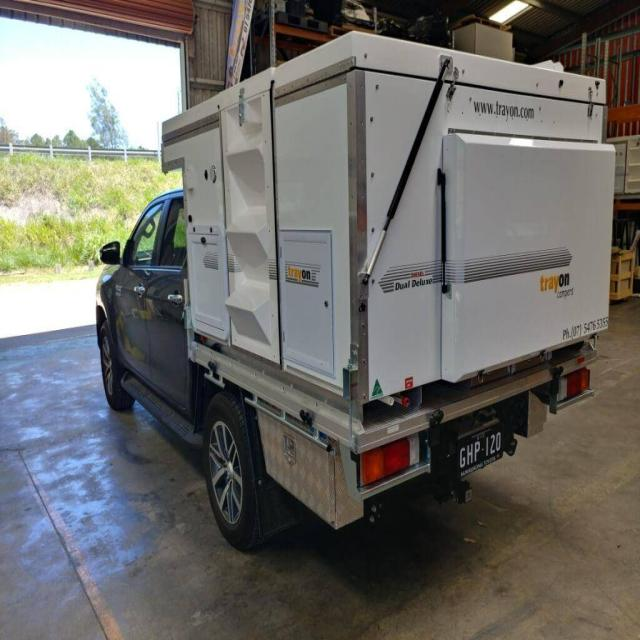light_vehicle: (88, 38, 600, 564)
